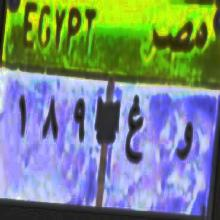1: (16, 90, 29, 150)
8: (40, 89, 60, 150)
9: (70, 93, 89, 149)
ghayn: (124, 91, 146, 177)
waw: (176, 118, 194, 173)
